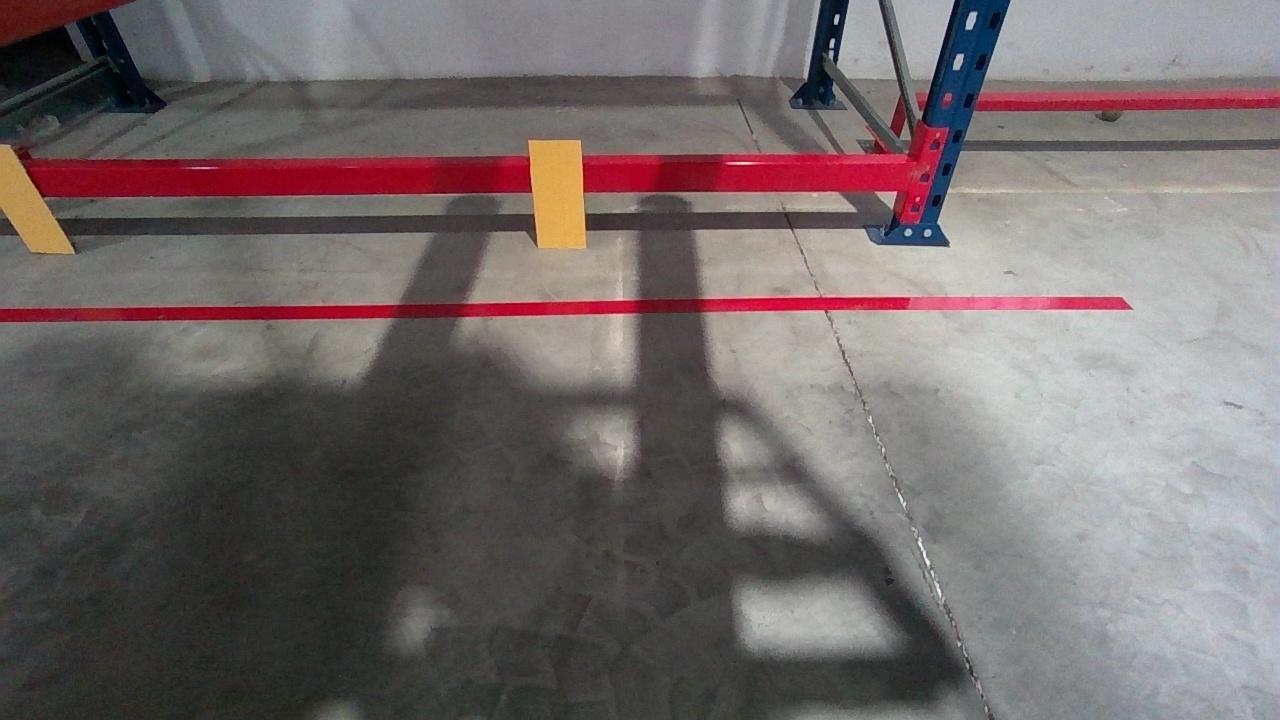h_rack: (0, 158, 911, 202)
orange_strip: (0, 144, 75, 254), (528, 137, 585, 246)
red_line: (0, 291, 1126, 322)
